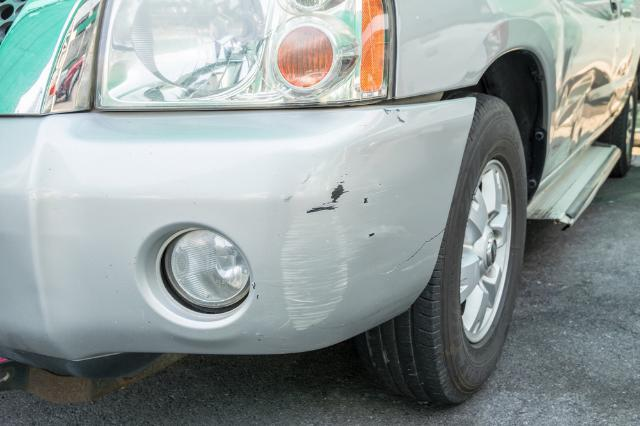crack: (381, 228, 445, 275)
dent: (558, 68, 613, 128)
scratch: (277, 117, 411, 336)
